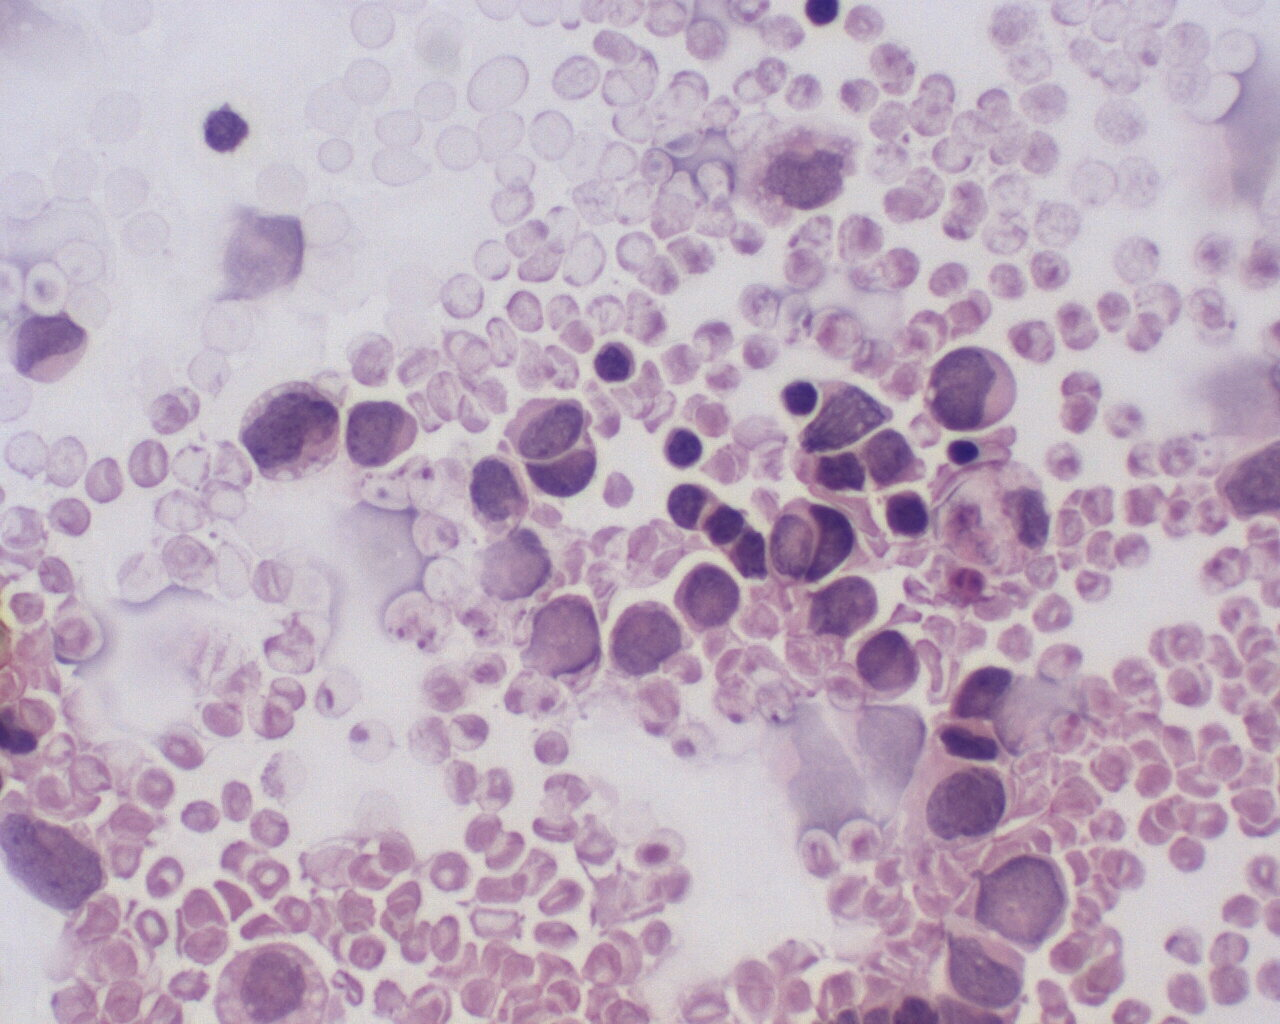ab: (977, 850, 1083, 962), (236, 383, 344, 484), (508, 394, 603, 501), (936, 923, 1035, 1016), (922, 342, 1023, 433), (760, 494, 857, 587), (340, 396, 420, 472), (673, 564, 746, 632), (853, 630, 920, 697)
